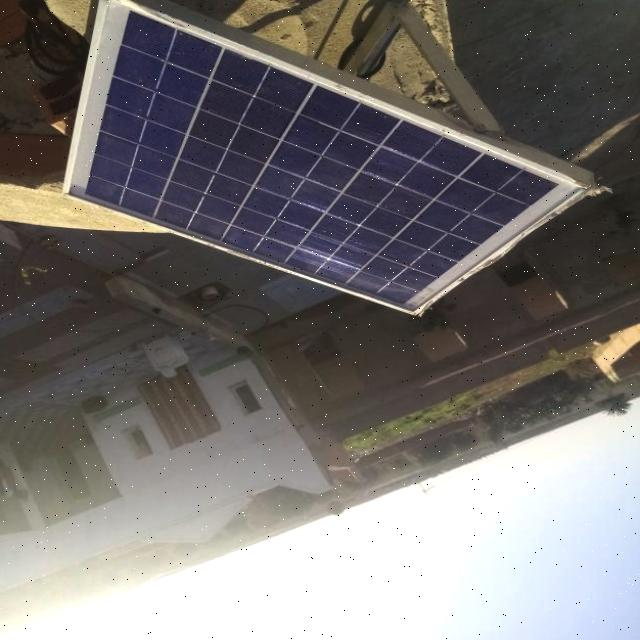Normal Solar Panel: (63, 0, 588, 314)
